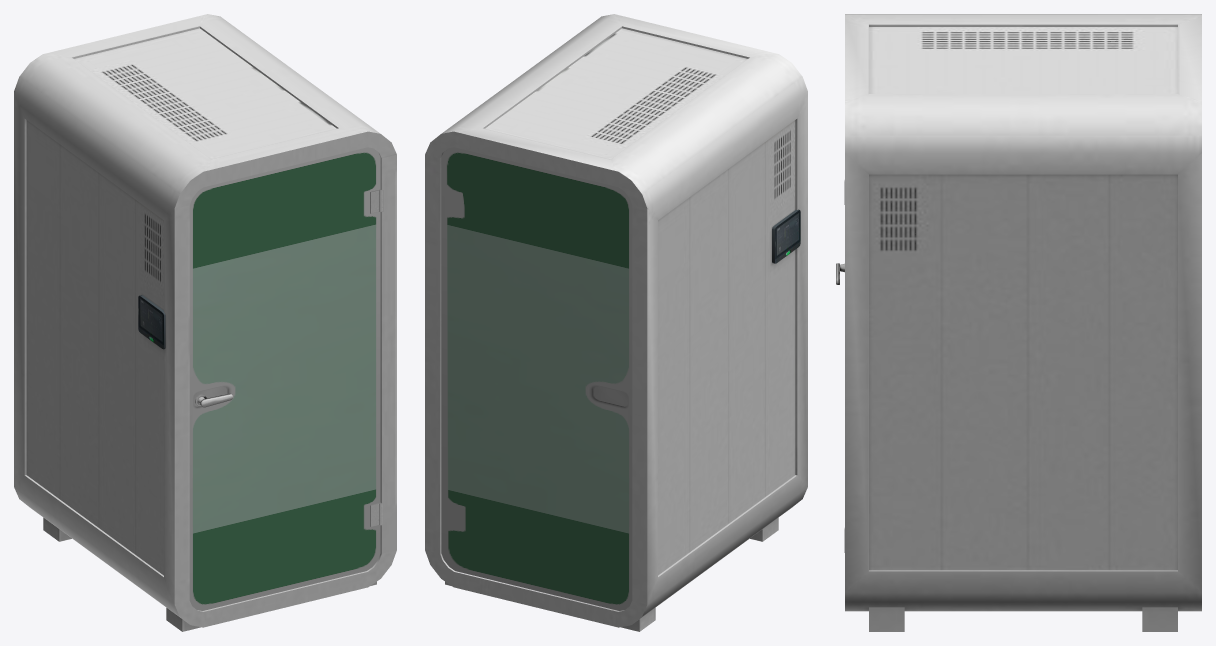
Rendered from TelephoneBooth1P.gltf.
3 views of the same model, side by side, from view 1: azimuth 30°, elevation 25°; view 2: azimuth 150°, elevation 25°; view 3: azimuth 270°, elevation 25° (orthographic). The views are drawn at different scales.
Visible parts, largest first — view 1: TelephoneBooth1P, door1P_A; view 2: TelephoneBooth1P, door1P_A; view 3: TelephoneBooth1P.
Part boxes in pixels (x1,y1,x2,y2): TelephoneBooth1P: [14, 14, 396, 631]; door1P_A: [189, 147, 380, 610]; TelephoneBooth1P: [425, 14, 807, 631]; door1P_A: [441, 147, 632, 610]; TelephoneBooth1P: [836, 14, 1201, 631].
Size of the model in its own units: 12.08 by 24 by 15.38.
2 materials, 2 textured.
